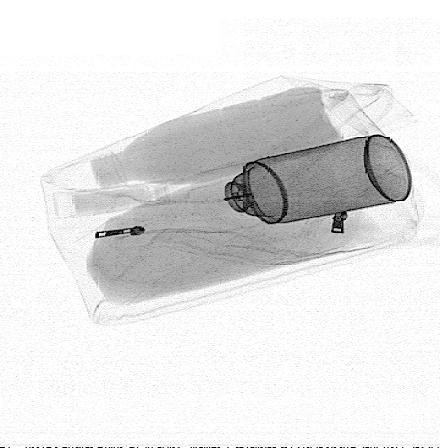Sprayer: (192, 135, 412, 235)
